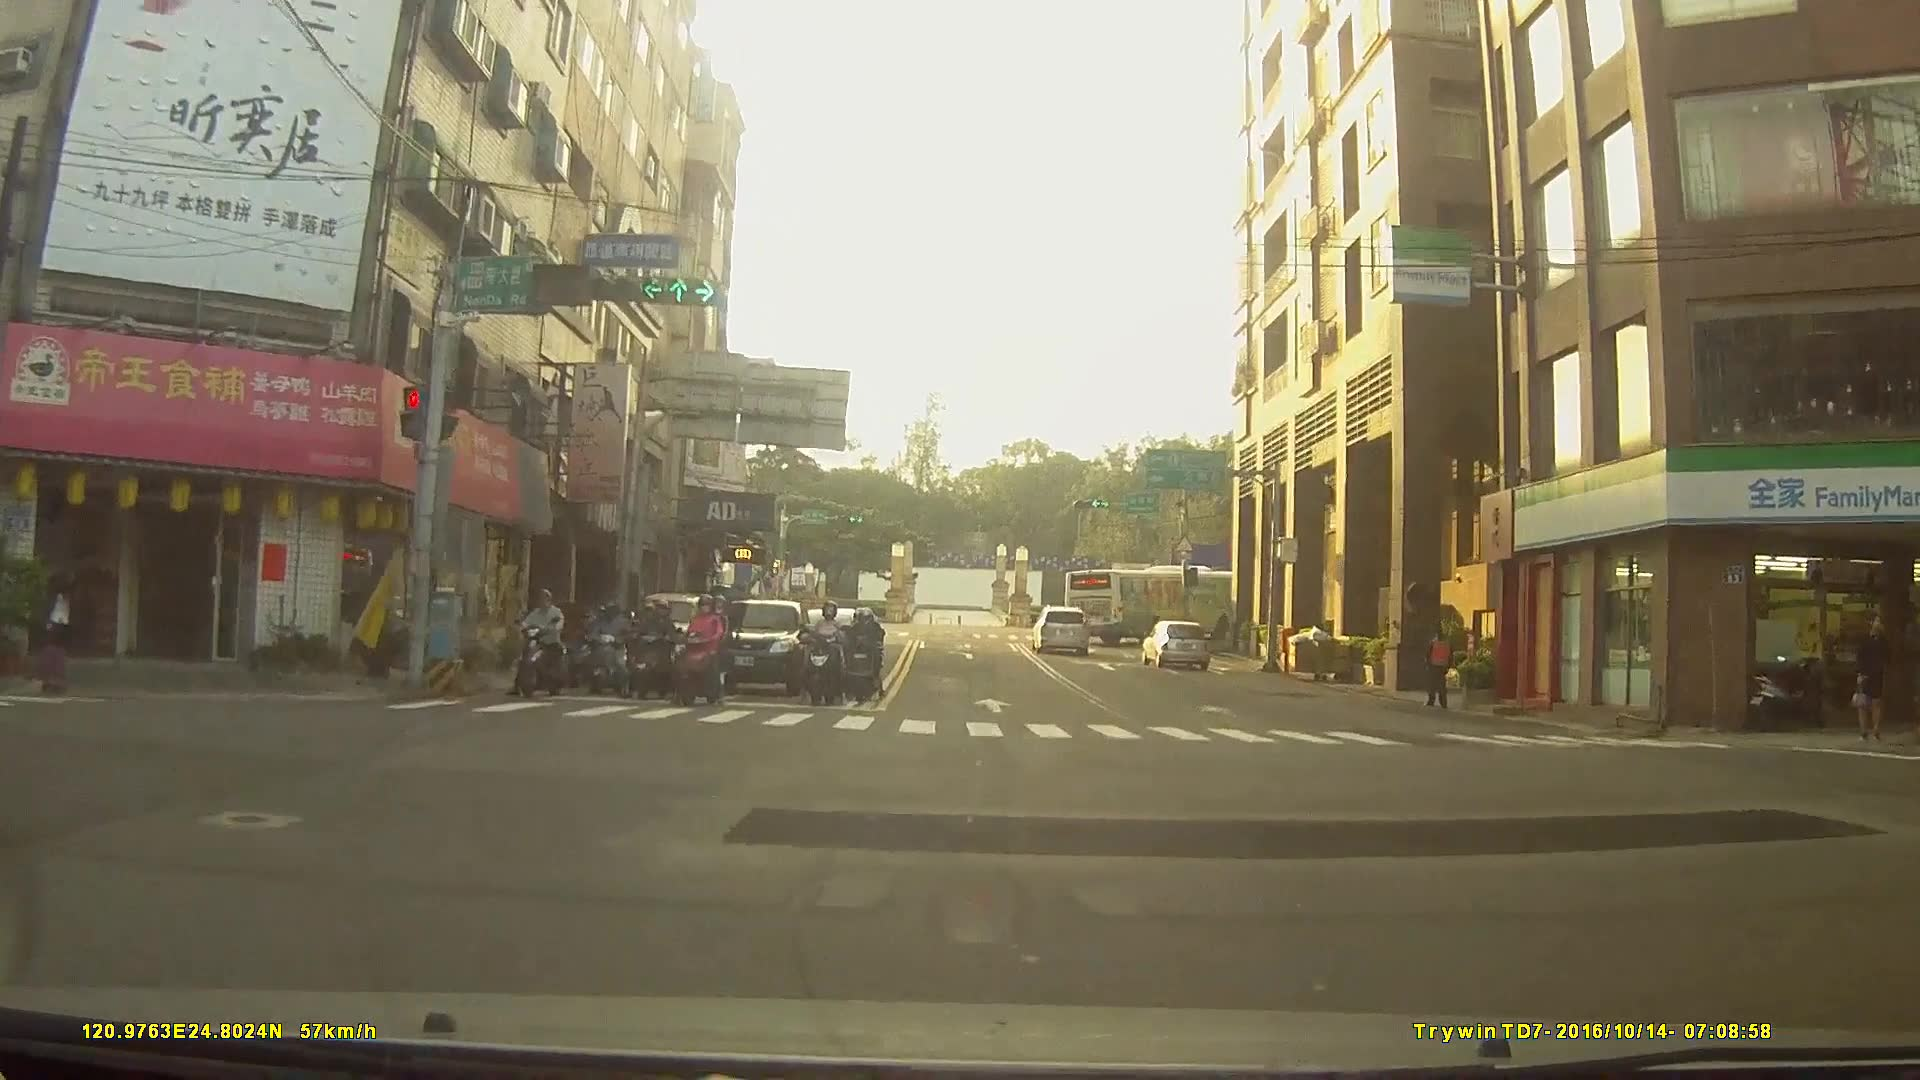pedestrian: (36, 559, 82, 698), (1852, 611, 1898, 742), (1423, 627, 1455, 707)
rider: (670, 592, 733, 712), (512, 589, 572, 699), (804, 597, 850, 703), (577, 602, 624, 699), (629, 599, 674, 698), (842, 612, 886, 704)
vehicle: (1062, 564, 1244, 641), (694, 594, 809, 693), (1139, 615, 1211, 666), (1030, 601, 1090, 653)
